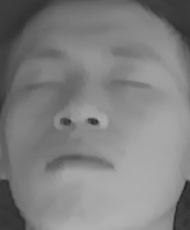blink: (110, 69, 154, 98), (22, 72, 60, 96)
mouth: (42, 141, 117, 178)
